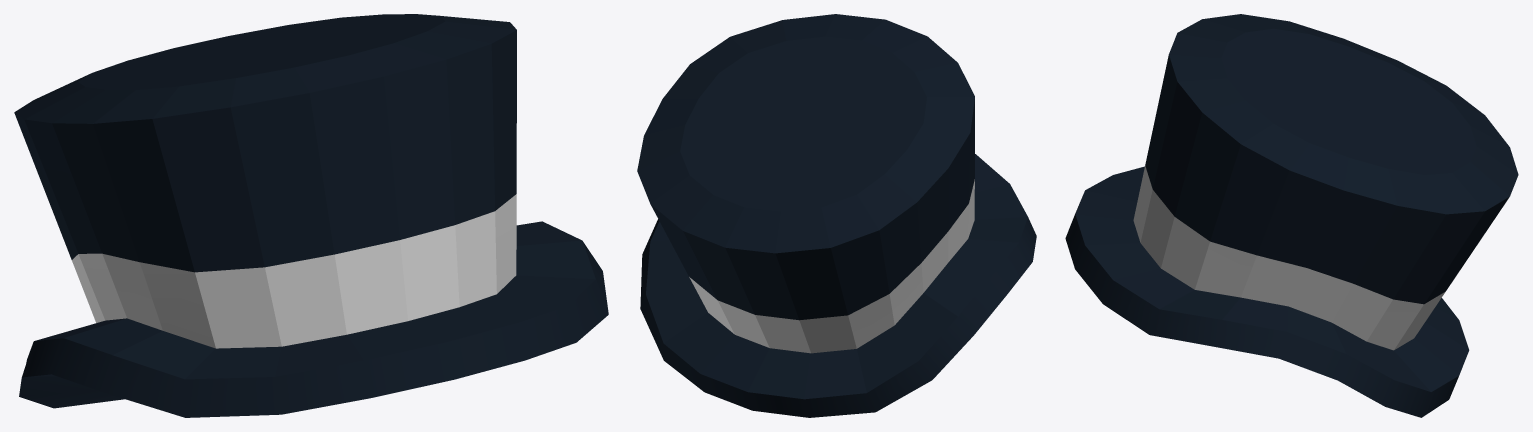
Rendered from sihirbaz-sapkasi.fbx.
3 views of the same model, side by side, from view 1: azimuth 30°, elevation 25°; view 2: azimuth 150°, elevation 25°; view 3: azimuth 270°, elevation 25° (orthographic). The views are drawn at different scales.
Visible parts, largest first — view 1: sihirbaz_sapkasi; view 2: sihirbaz_sapkasi; view 3: sihirbaz_sapkasi.
Part boxes in pixels (bbox=[...]): sihirbaz_sapkasi: bbox=[14, 14, 608, 417]; sihirbaz_sapkasi: bbox=[637, 14, 1036, 417]; sihirbaz_sapkasi: bbox=[1065, 14, 1518, 417].
Size of the model in its own units: 4.55 by 3.69 by 4.74.
